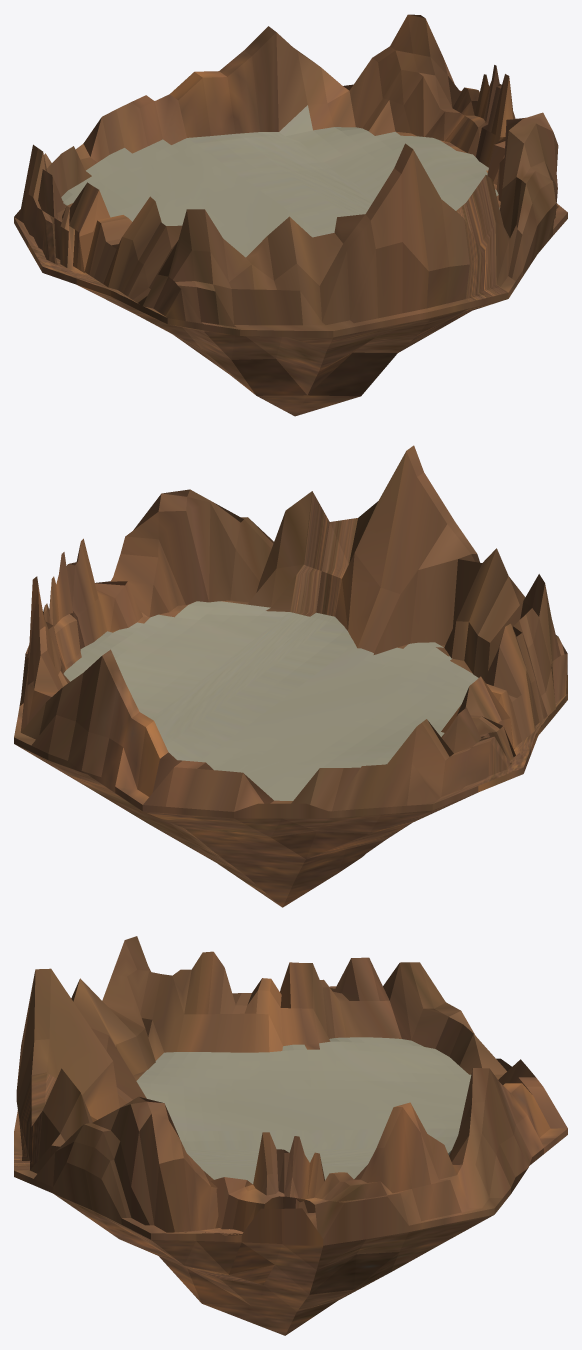
File: island-a.obj
3 views of the same model, one above another, from view 1: azimuth 30°, elevation 25°; view 2: azimuth 150°, elevation 25°; view 3: azimuth 270°, elevation 25° (orthographic). The views are drawn at different scales.
Parts seen in each view (by area): view 1: Cone; view 2: Cone; view 3: Cone.
Part boxes in pixels (x1=…): Cone: x1=14, y1=14, x2=567, y2=416; Cone: x1=14, y1=445, x2=567, y2=907; Cone: x1=14, y1=936, x2=567, y2=1335.
Bounding box in the file's own units: 59.02 × 43.39 × 59.71.
2 materials, 2 textured.
